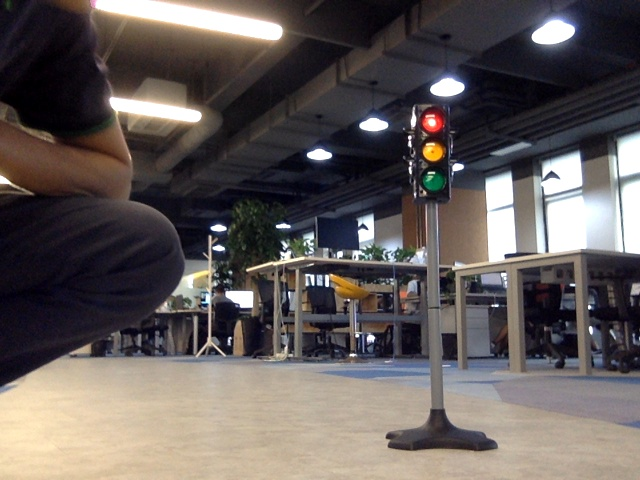red: (416, 109, 447, 195)
